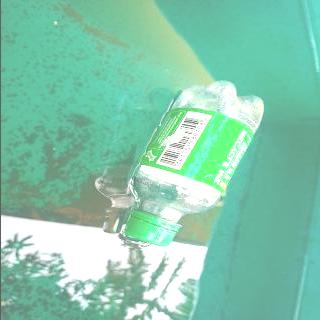bottle: (122, 78, 270, 248)
